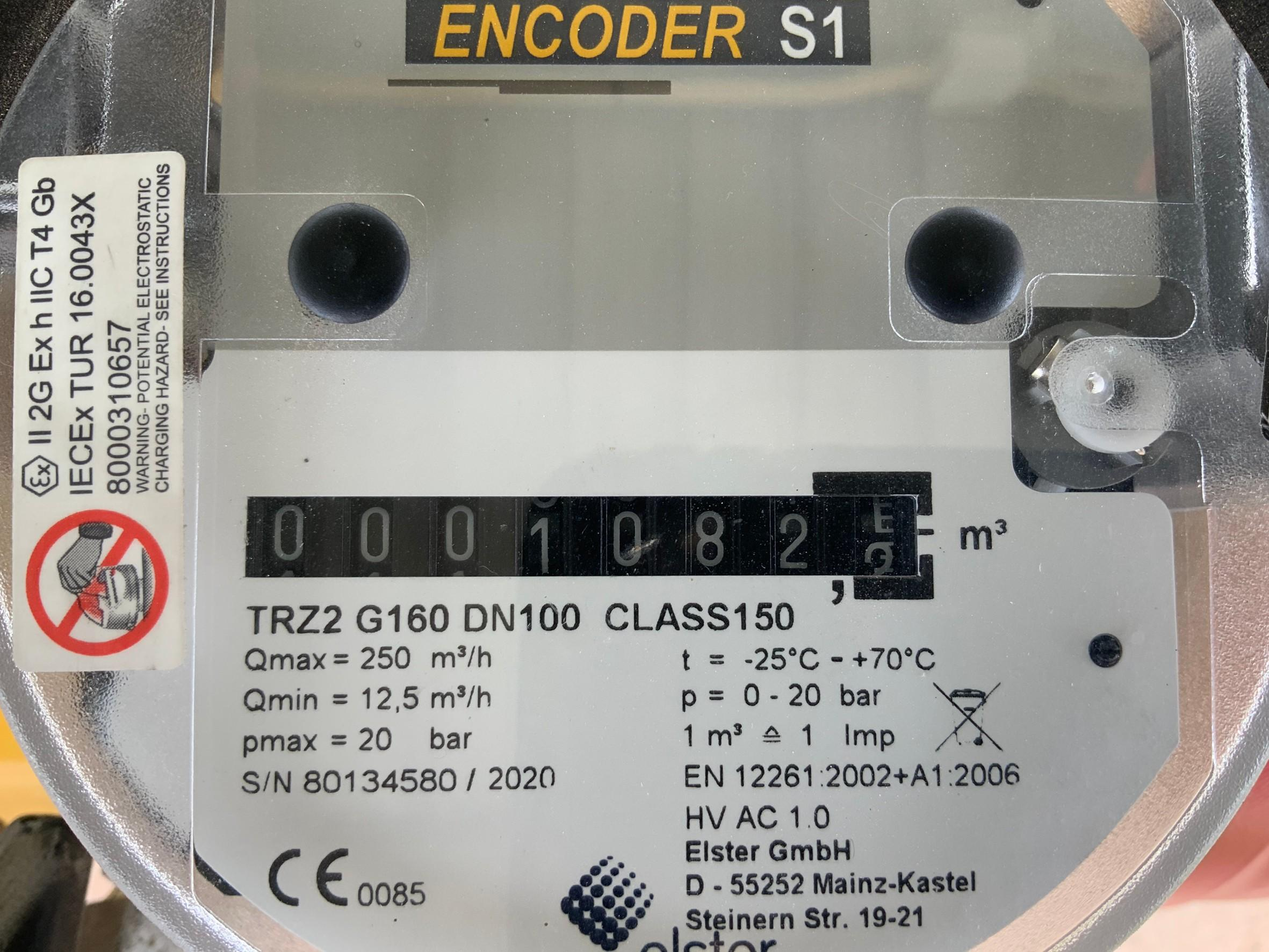analog_dial: (233, 446, 945, 609)
